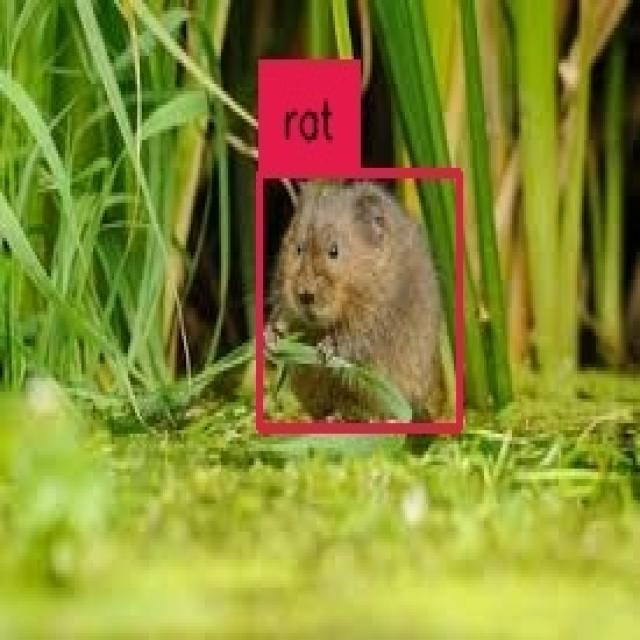rat: (261, 173, 458, 429)
